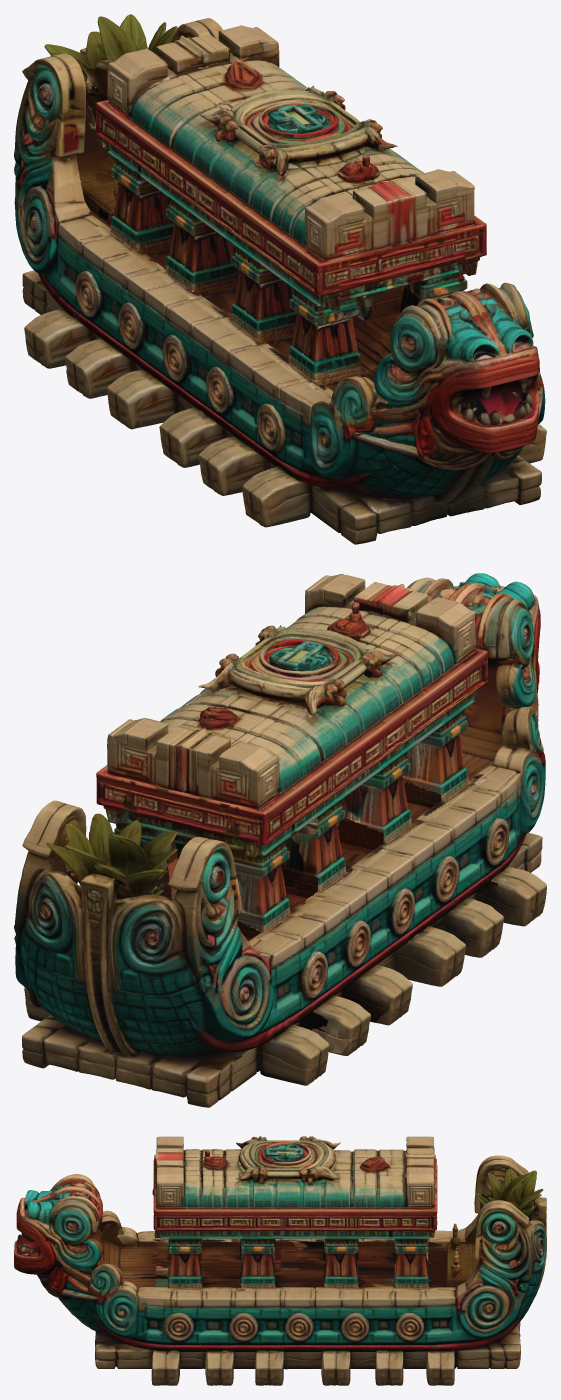
The model's file is boat 2.glb.
3 views of the same model, one above another, from view 1: azimuth 30°, elevation 25°; view 2: azimuth 150°, elevation 25°; view 3: azimuth 270°, elevation 25° (orthographic). The views are drawn at different scales.
Size of the model in its own units: 0.7128 by 0.726 by 1.8.
1 material, 1 textured.
